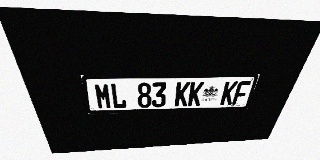3: (152, 82, 167, 107)
8: (137, 82, 152, 108)
F: (232, 81, 251, 105)
K: (220, 81, 238, 105), (174, 82, 191, 107), (187, 82, 204, 106)
L: (110, 83, 127, 109)
M: (93, 83, 112, 109)
